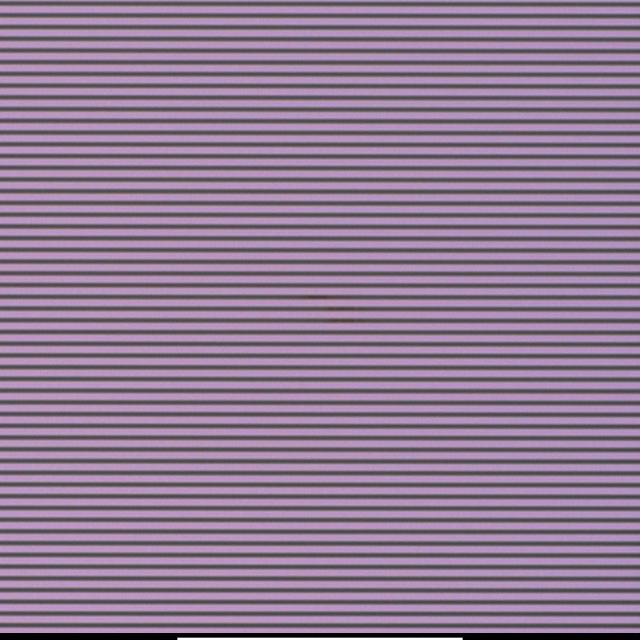03_intrusion: (352, 305, 359, 313)
